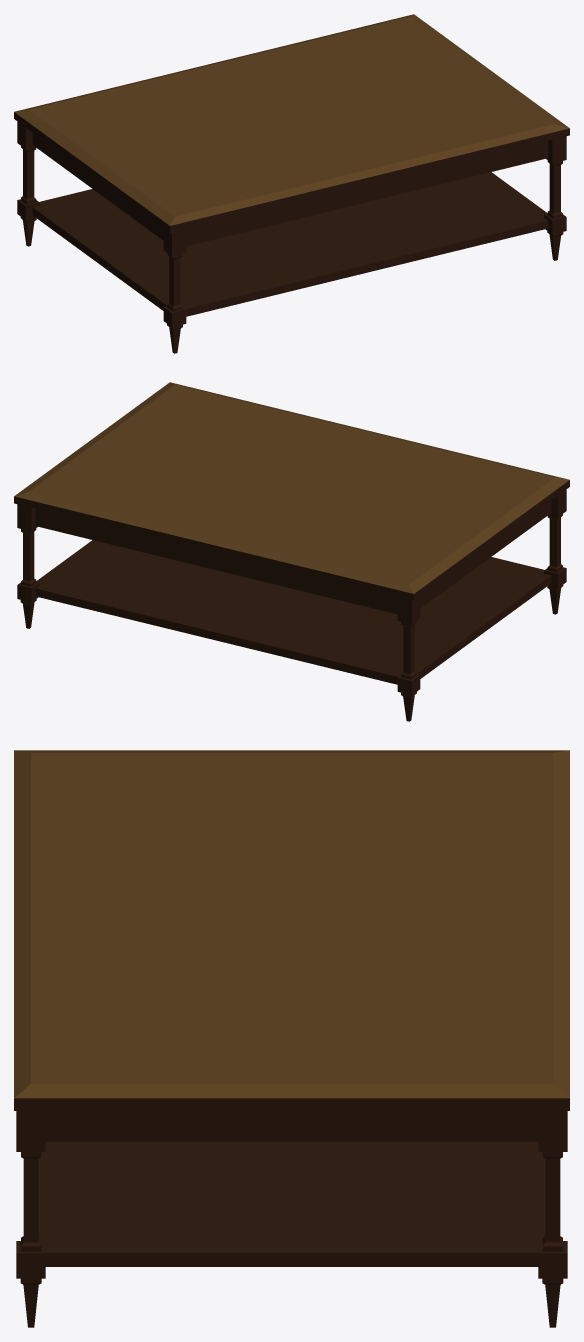
File: SM_TableSmall_01.fbx
The picture shows the model from 3 angles, top to bottom: view 1: azimuth 30°, elevation 25°; view 2: azimuth 150°, elevation 25°; view 3: azimuth 270°, elevation 25°; orthographic projection. The views are drawn at different scales.
Parts seen in each view (by area): view 1: SM_TableSmall_01; view 2: SM_TableSmall_01; view 3: SM_TableSmall_01.
Part boxes in pixels (box(x1,y1,x2,y2)): SM_TableSmall_01: box(14, 14, 569, 353); SM_TableSmall_01: box(14, 382, 569, 721); SM_TableSmall_01: box(14, 750, 569, 1327).
Size of the model in its own units: 62.12 by 20.18 by 41.95.
